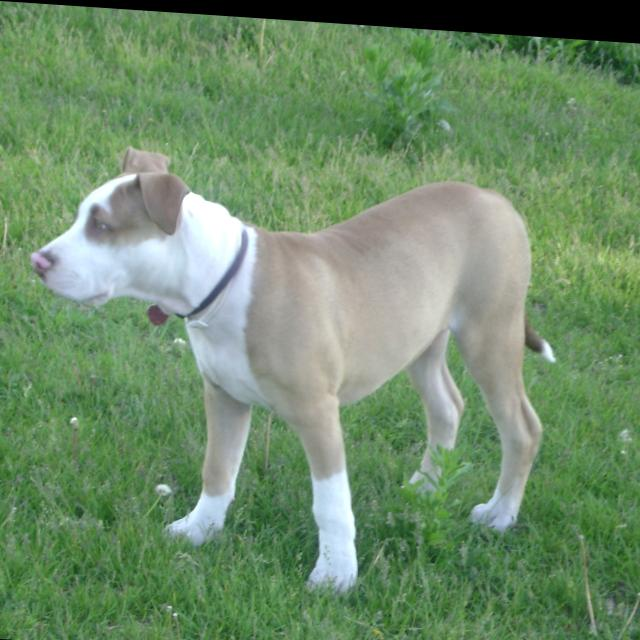am_pit_bull_terrier: (31, 140, 557, 603)
